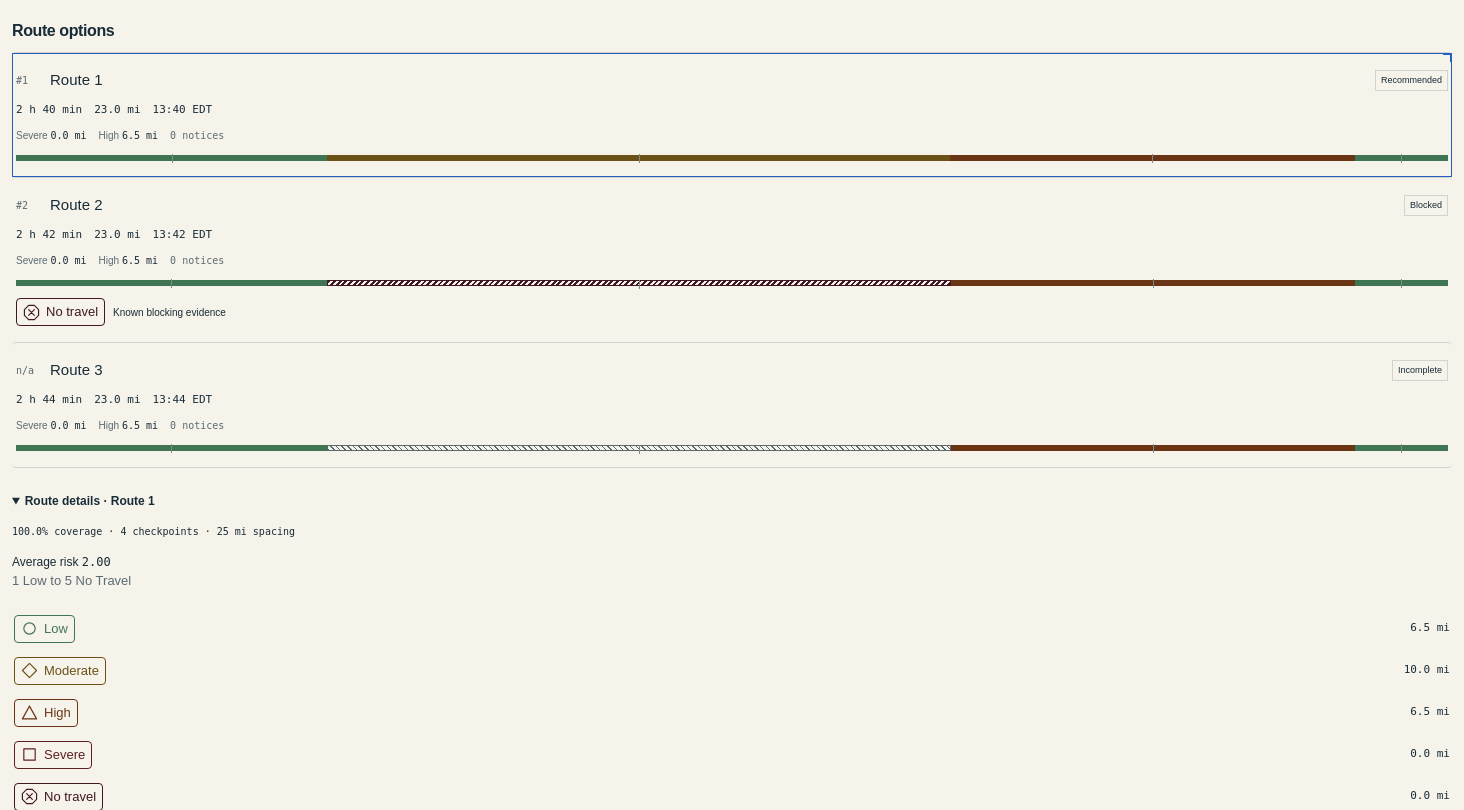
it: blocked and incomplete columns retain coverage, n/a and never earn winner ticks
(page scrolled)
Step 1. Click the radio button that starts with "n/a" → [732, 405], box [12,342,1452,468]
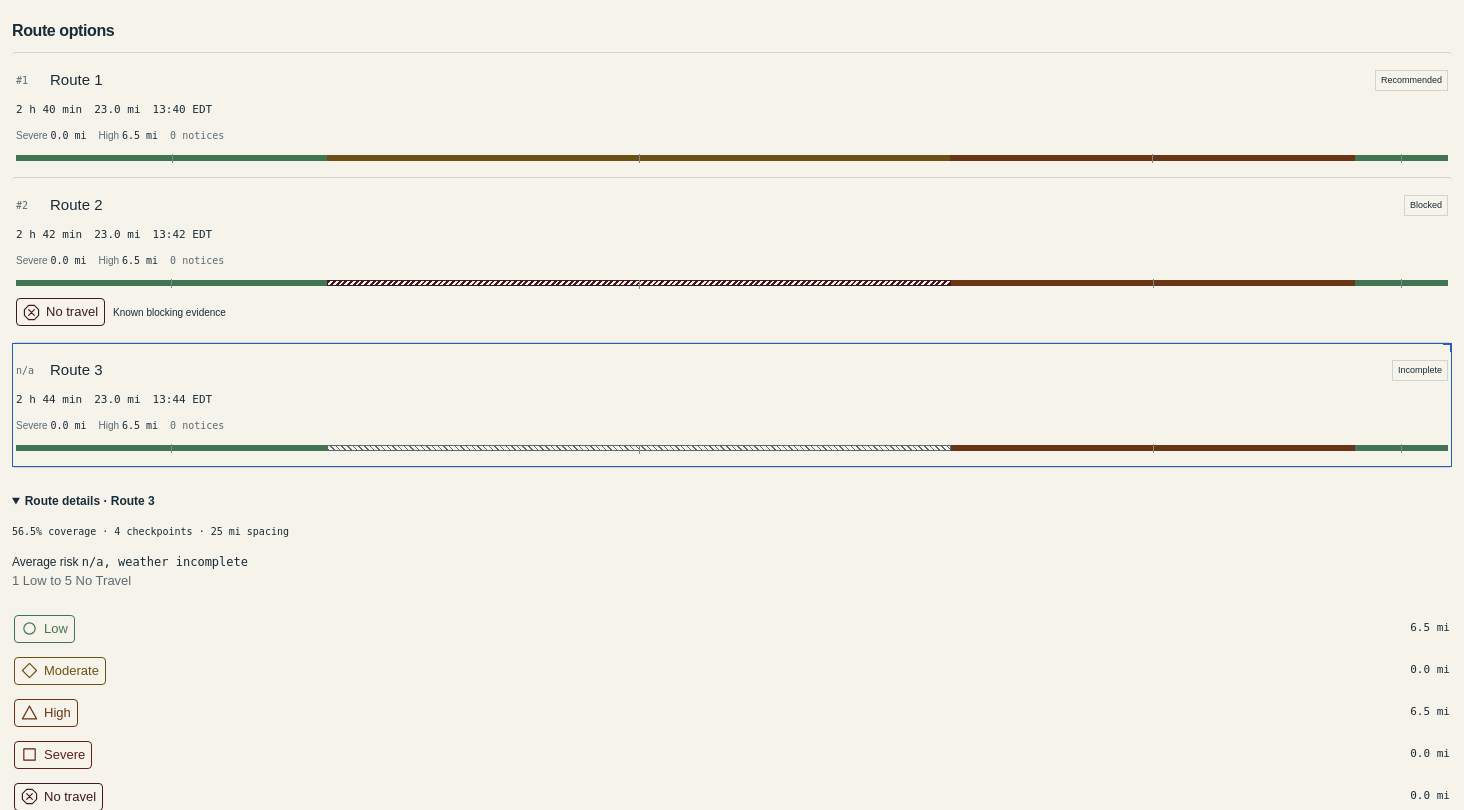
Result: the text "n/a, weather incomplete" is shown at [82,555,248,569]
